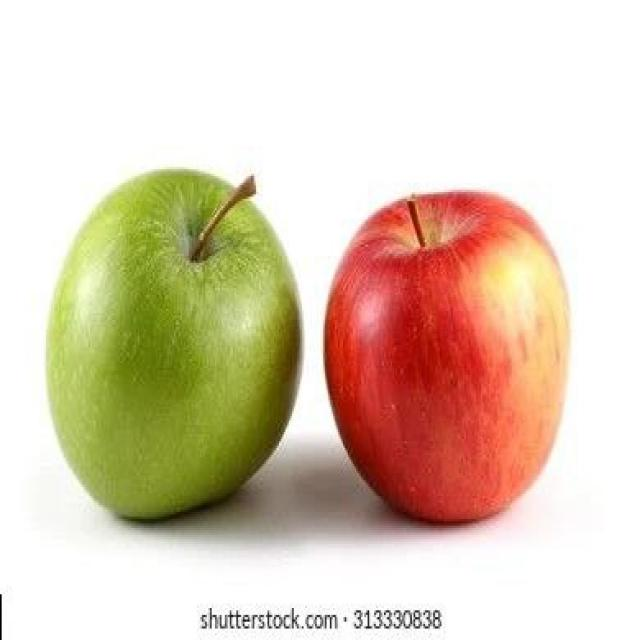fresh_apple: (44, 168, 307, 527), (323, 189, 575, 529)
